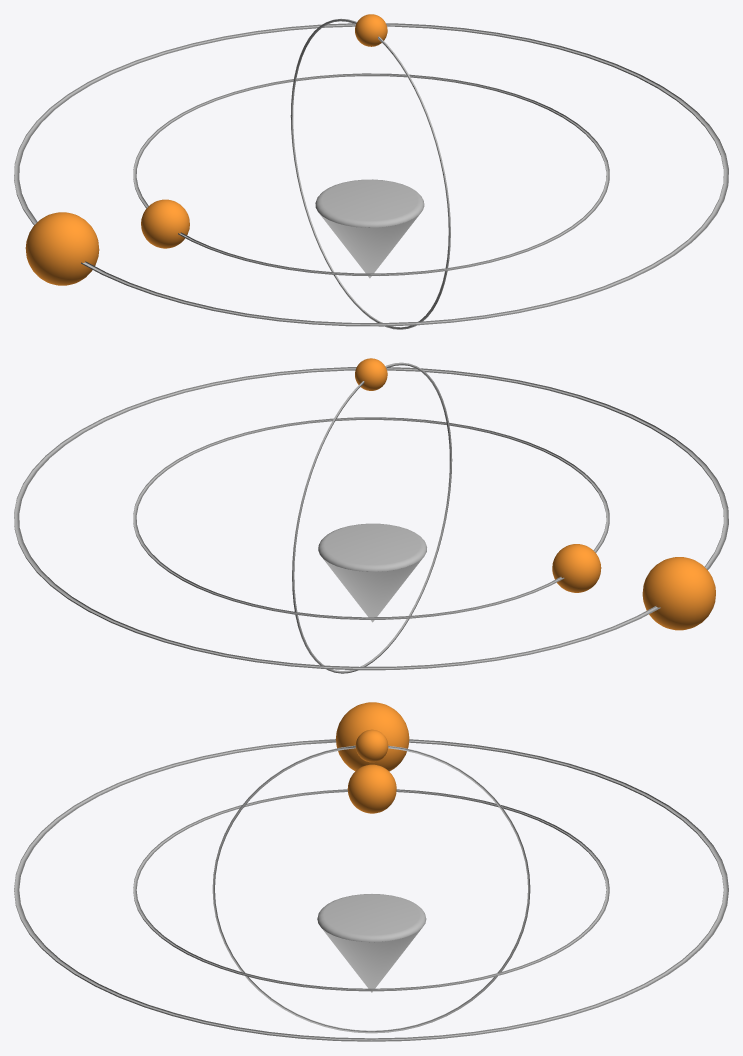
The model's file is NetworkLift.fbx.
The picture shows the model from 3 angles, top to bottom: view 1: azimuth 30°, elevation 25°; view 2: azimuth 150°, elevation 25°; view 3: azimuth 270°, elevation 25°; orthographic projection.
Parts seen in each view (by area): view 1: OrbitV2.002, Cone, OrbitV2.001, OrbitV2; view 2: OrbitV2.002, Cone, OrbitV2.001, OrbitV2; view 3: OrbitV2.002, Cone, OrbitV2.001, OrbitV2.
Boxes of the visible parts, x1,y1,x2,y2 form: OrbitV2.002: (14, 23, 728, 326); Cone: (315, 179, 424, 278); OrbitV2.001: (133, 73, 609, 275); OrbitV2: (290, 14, 450, 329); OrbitV2.002: (14, 367, 728, 670); Cone: (318, 523, 426, 622); OrbitV2.001: (133, 417, 609, 619); OrbitV2: (292, 358, 452, 673); OrbitV2.002: (14, 702, 728, 1041); Cone: (317, 894, 426, 992); OrbitV2.001: (133, 764, 609, 991); OrbitV2: (212, 729, 530, 1033).
Bounding box in the file's own units: 1311 × 611 × 1375.
